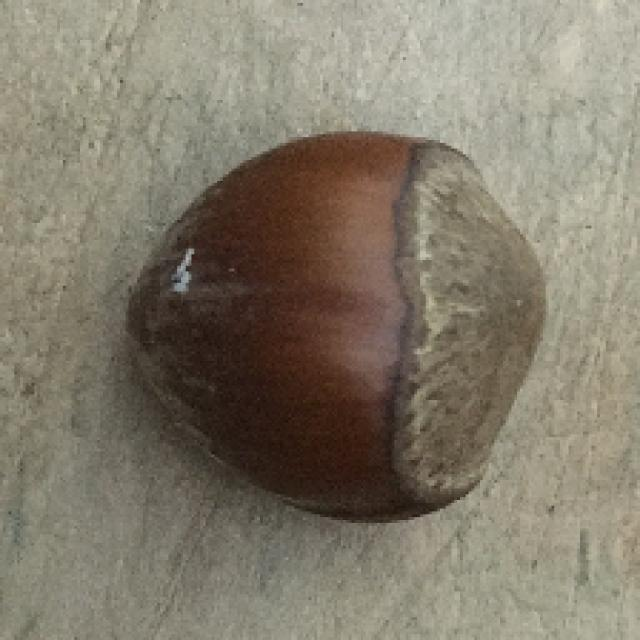qualityHazelnut: (129, 123, 554, 536)
